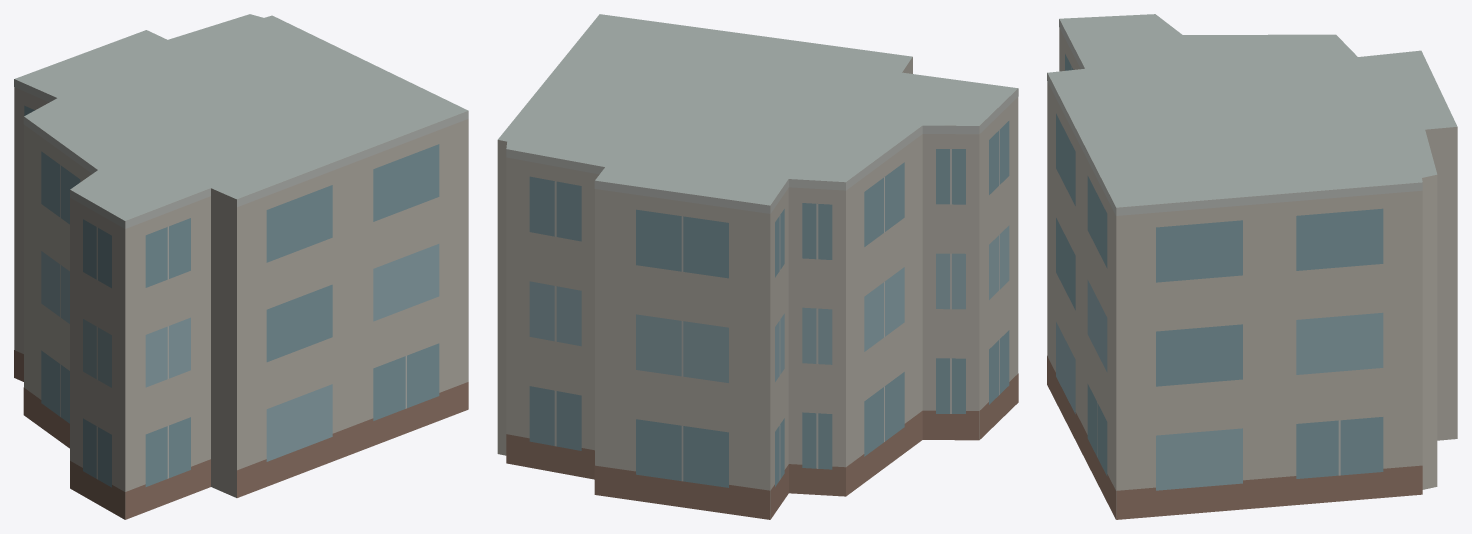
The model's file is survey-upis-32749810.glb.
3 views of the same model, side by side, from view 1: azimuth 30°, elevation 25°; view 2: azimuth 150°, elevation 25°; view 3: azimuth 270°, elevation 25° (orthographic). The views are drawn at different scales.
Visible parts, largest first — view 1: survey-upis-32749810.tmp; view 2: survey-upis-32749810.tmp; view 3: survey-upis-32749810.tmp.
Part boxes in pixels (box(x1,y1,x2,y2)): survey-upis-32749810.tmp: box(14, 14, 468, 519); survey-upis-32749810.tmp: box(497, 14, 1018, 519); survey-upis-32749810.tmp: box(1047, 14, 1457, 519).
Bounding box in the file's own units: 12.19 × 9.15 × 10.91.
